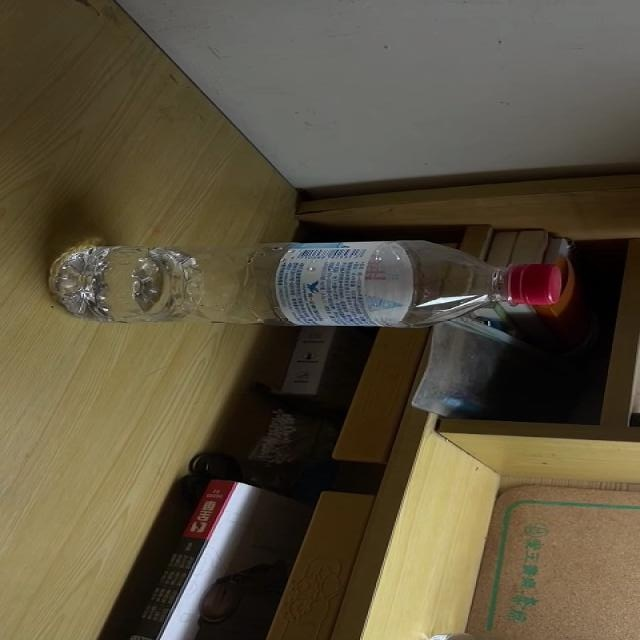Water: (48, 241, 563, 327)
